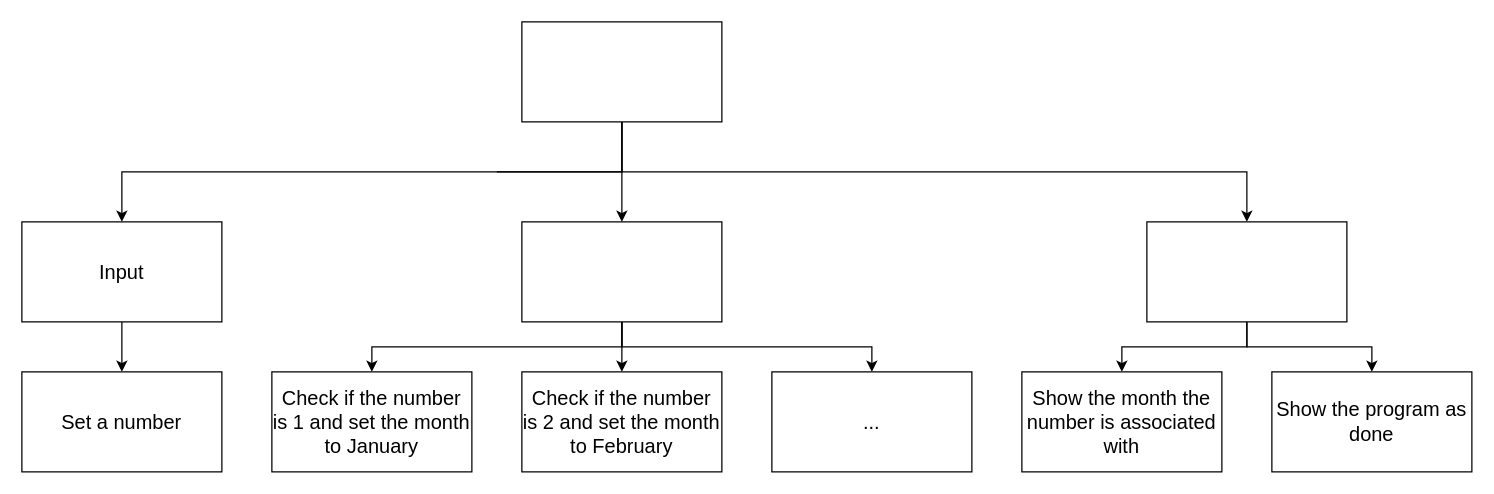
Image size: 1494x494. Some labels were removed from this diagram. Each missing label, with the centre of its shape:
Finding Months: point (621, 71)
Output: point (1246, 271)
Process: point (621, 271)
